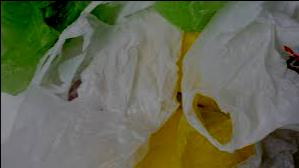Plastic: (1, 12, 180, 167), (179, 2, 298, 155)
